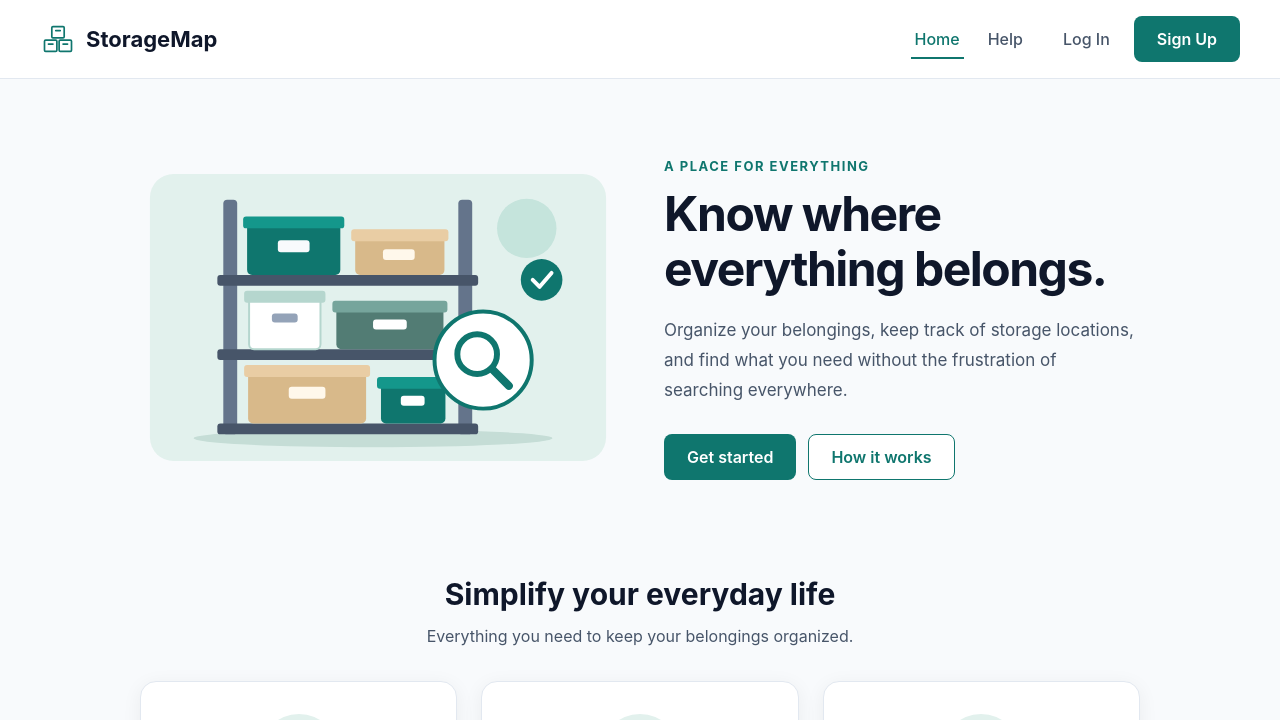
it: loads locations and items when opening the inventory
Click the button "Log In". click: (1086, 39)
box: [1059,21,1114,57]
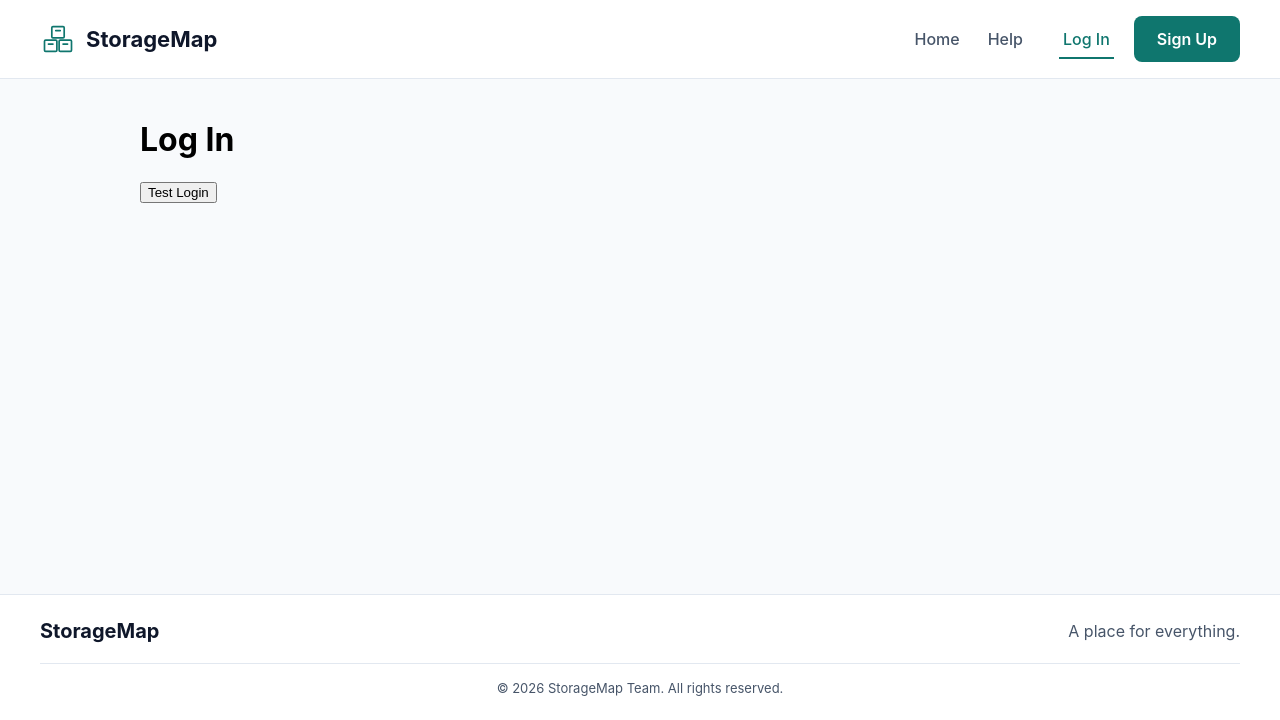
Click the button "Test Login". click: (178, 192)
box: [140,182,217,203]
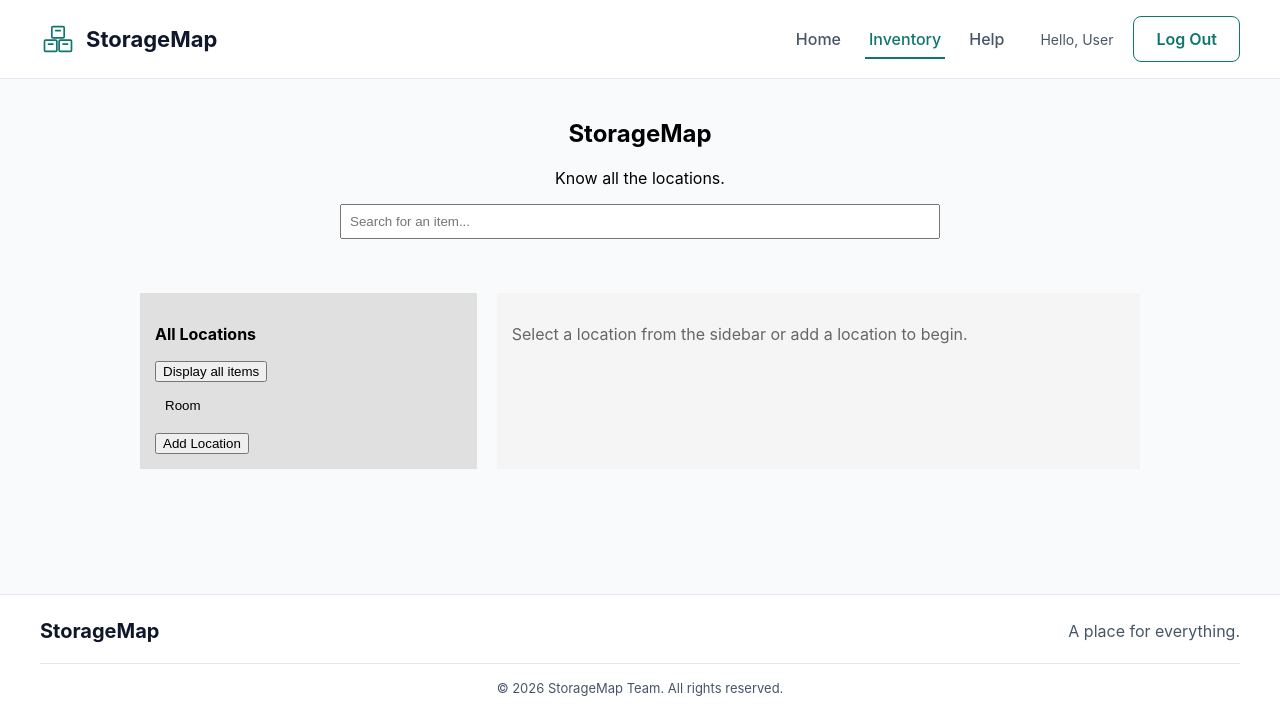
Now the button "Room" is shown
Click the button "Room". click: (183, 405)
box: [155,392,462,419]
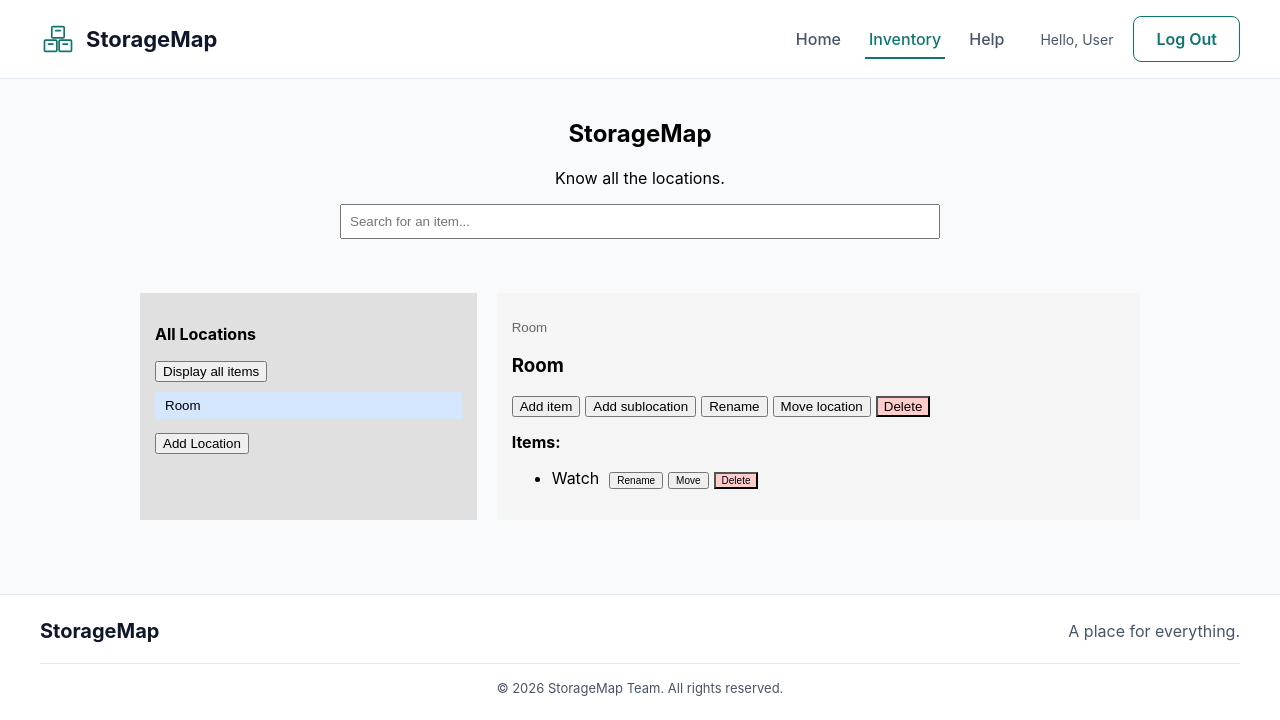
Now the list item "Watch" is shown, box [552,468,599,488]
